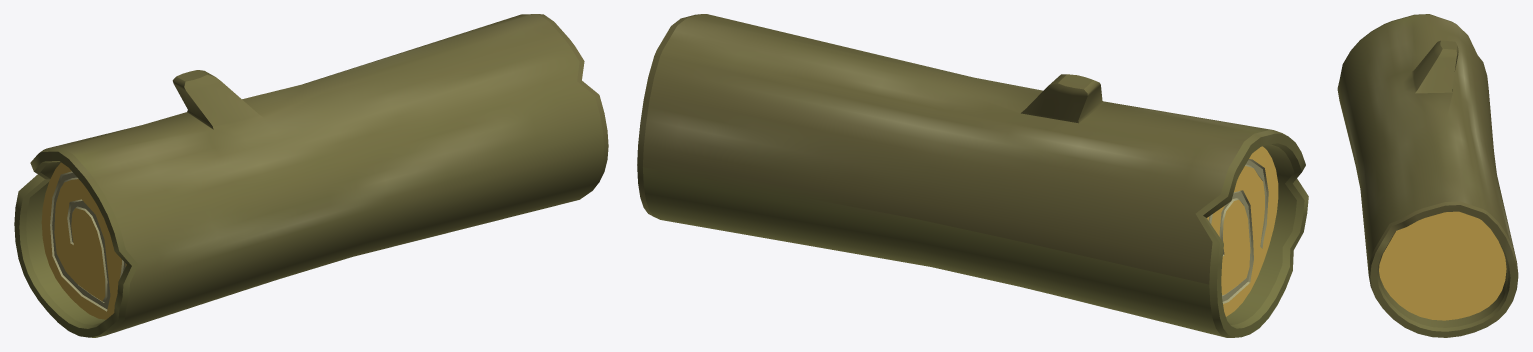
The model's file is log.glb.
3 views of the same model, side by side, from view 1: azimuth 30°, elevation 25°; view 2: azimuth 150°, elevation 25°; view 3: azimuth 270°, elevation 25° (orthographic). The views are drawn at different scales.
Visible parts, largest first — view 1: log; view 2: log; view 3: log.
Boxes of the visible parts, x1,y1,x2,y2 form: log: [14, 14, 608, 337]; log: [637, 14, 1308, 337]; log: [1337, 14, 1518, 337].
Size of the model in its own units: 1.39 by 0.5299 by 0.5444.
Materials: 1 (1 with a texture image).
